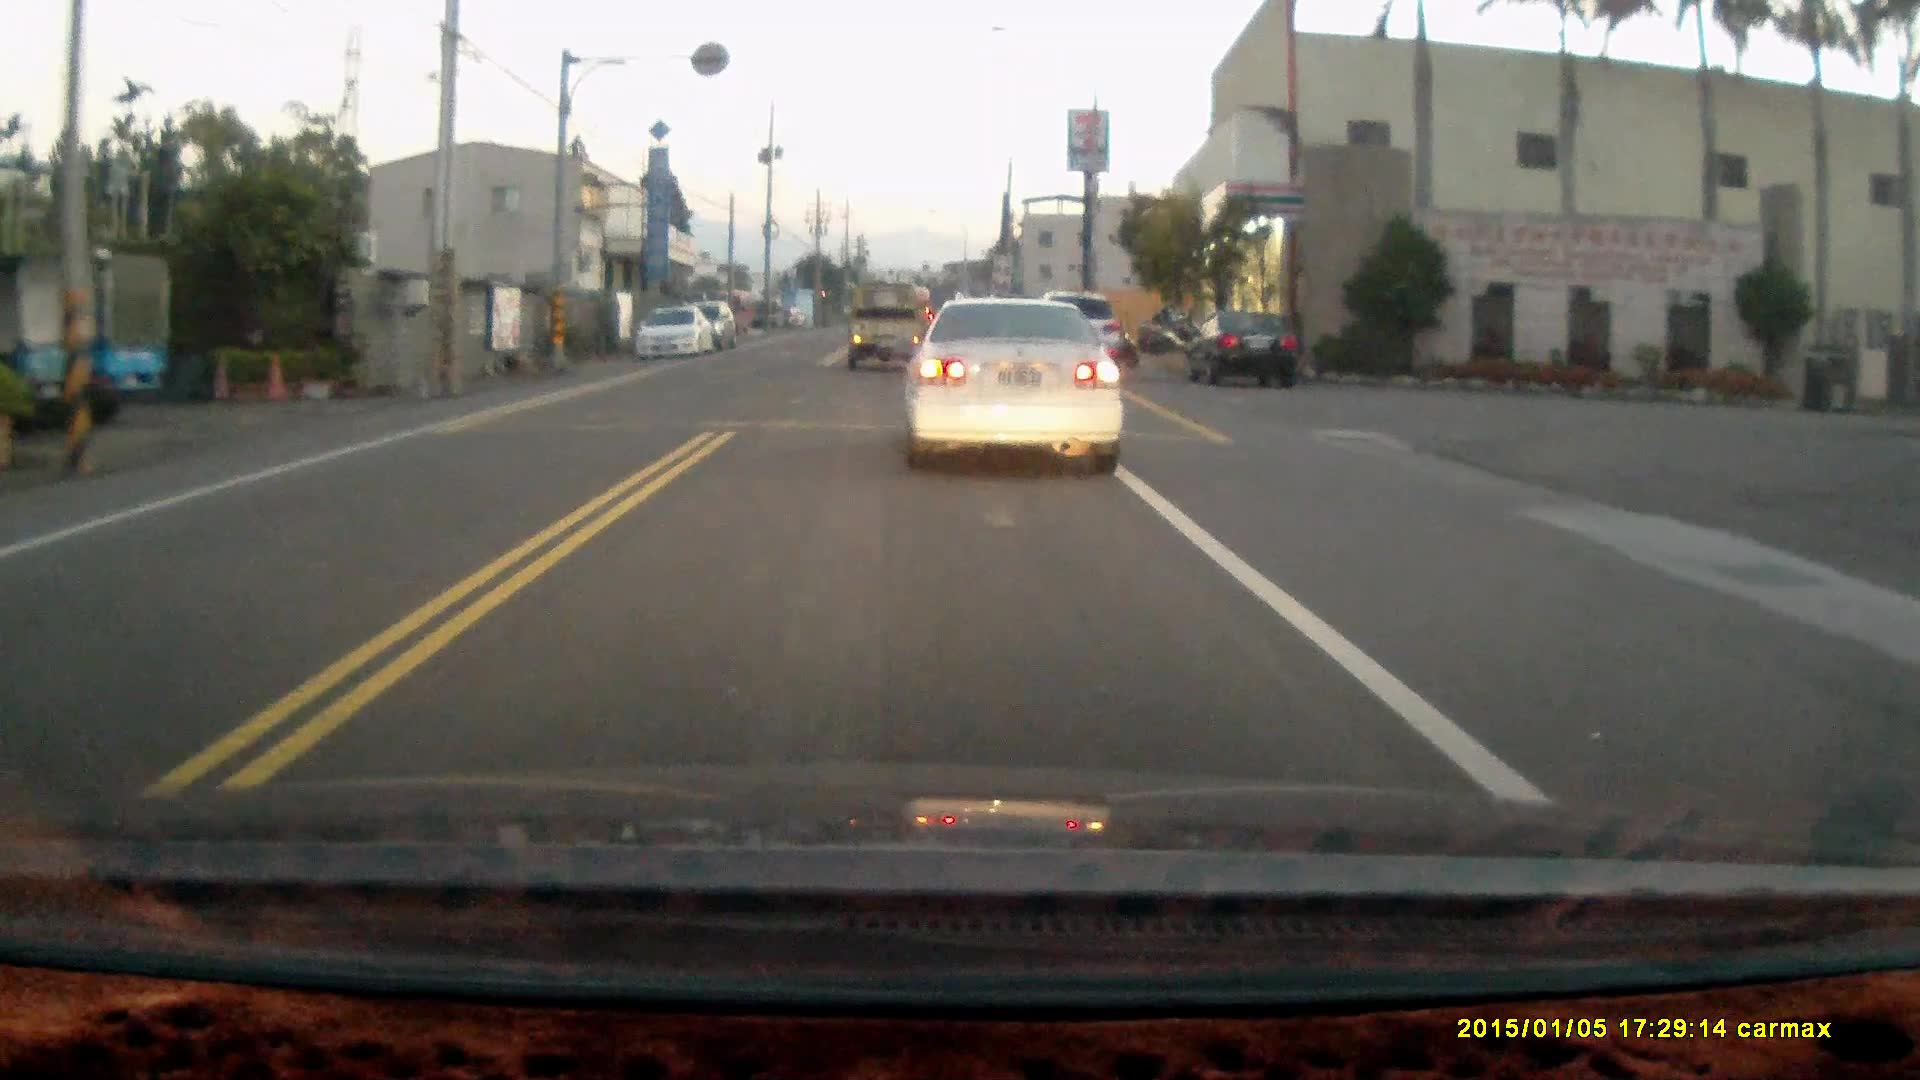vehicle: (911, 293, 1133, 477), (1182, 314, 1299, 396), (843, 277, 934, 367), (628, 302, 719, 361)
